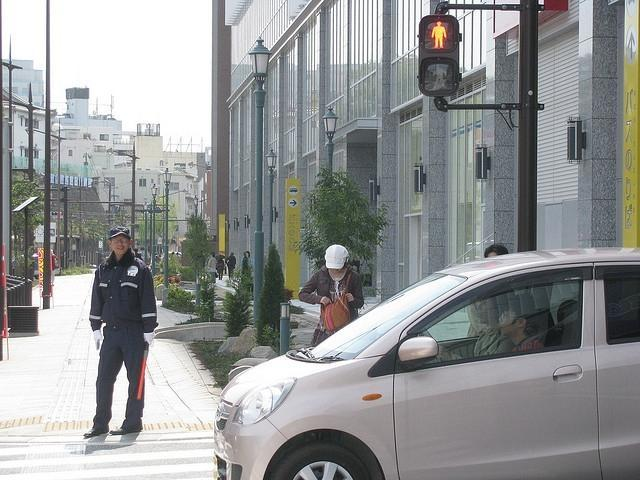car: (214, 244, 638, 474)
